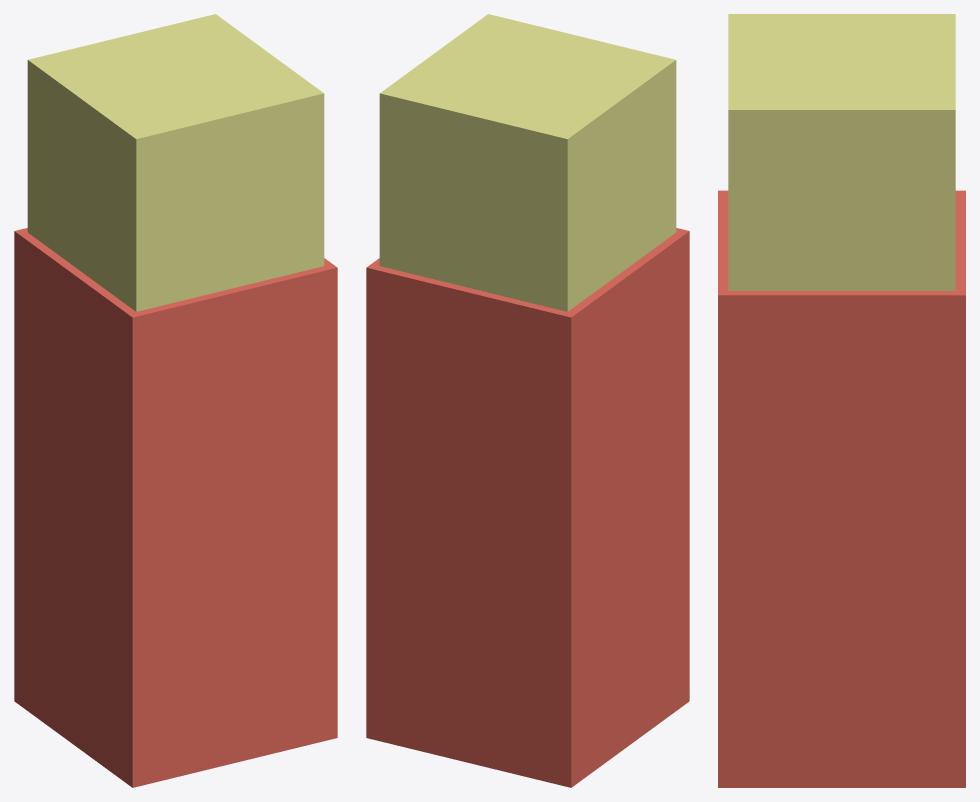
File: ped_4.fbx
The picture shows the model from 3 angles, left to right: view 1: azimuth 30°, elevation 25°; view 2: azimuth 150°, elevation 25°; view 3: azimuth 270°, elevation 25°; orthographic projection. The views are drawn at different scales.
Parts seen in each view (by area): view 1: Cube.001, Cube; view 2: Cube.001, Cube; view 3: Cube.001, Cube.
Boxes of the visible parts, x1,y1,x2,y2 form: Cube.001: [14, 228, 337, 787]; Cube: [27, 14, 324, 311]; Cube.001: [366, 228, 689, 787]; Cube: [379, 14, 676, 311]; Cube.001: [718, 190, 965, 787]; Cube: [728, 14, 955, 290].
Bounding box in the file's own units: 218 × 654 × 218.
